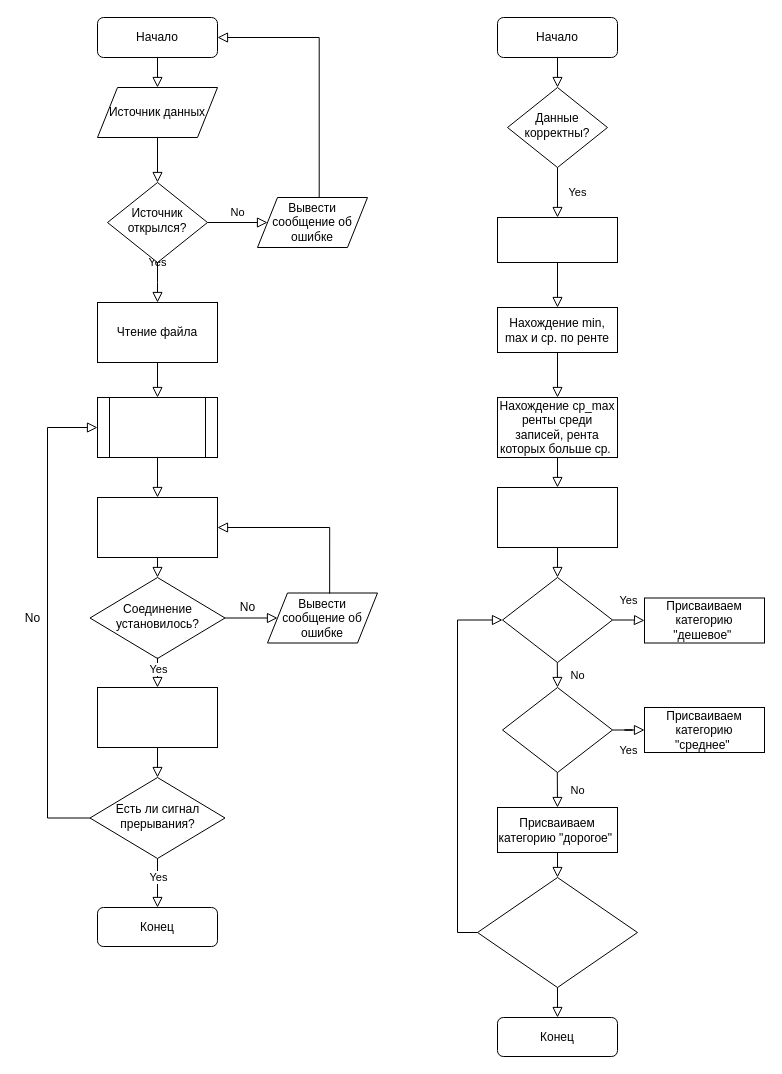
Some shapes in this 782 by 1074 pixel diagram are drawn without their labels. Each missing label, with the centre of its shape:
Всем ли записям присвоены категории?: [557,932]
Запись данных в БД: [157,717]
Запрос в БД: [157,527]
Нахождение ср_min ренты среди записей, рента которых меньше ср.: [557,517]
Обработка файла: [157,427]
Считывание данных: [557,239]
Цена меньше ср_max?: [557,729]
Цена меньше ср_min?: [557,619]
